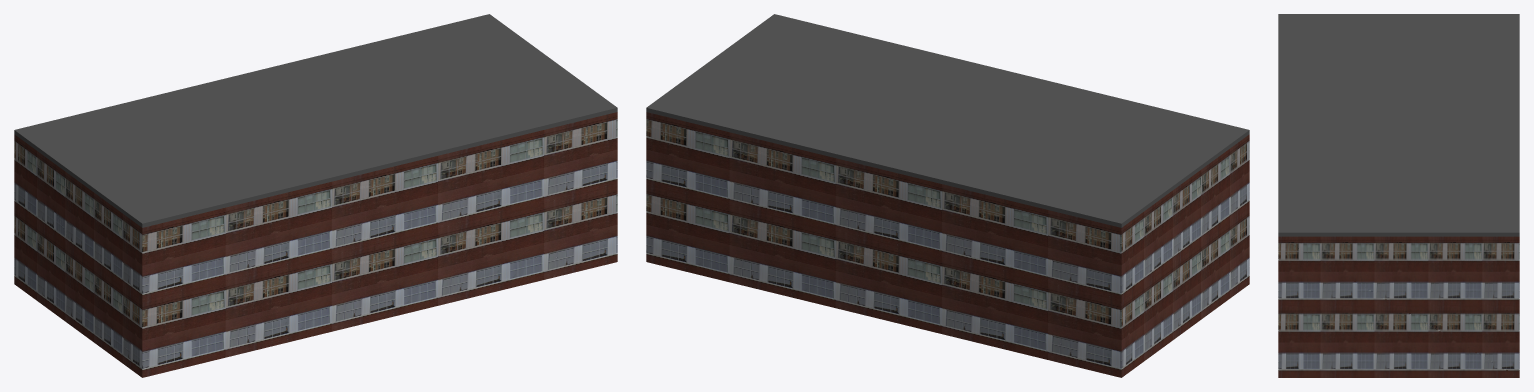
The model's file is building2.fbx.
3 renders of one model, left to right at view 1: azimuth 30°, elevation 25°; view 2: azimuth 150°, elevation 25°; view 3: azimuth 270°, elevation 25°, orthographic. The views are drawn at different scales.
Visible parts, largest first — view 1: Cube; view 2: Cube; view 3: Cube.
Boxes of the visible parts, x1,y1,x2,y2 form: Cube: [14, 14, 617, 377]; Cube: [646, 14, 1249, 377]; Cube: [1278, 14, 1519, 377].
Bounding box in the file's own units: 2364 × 733 × 1104.
Materials: 2 (1 with a texture image).
